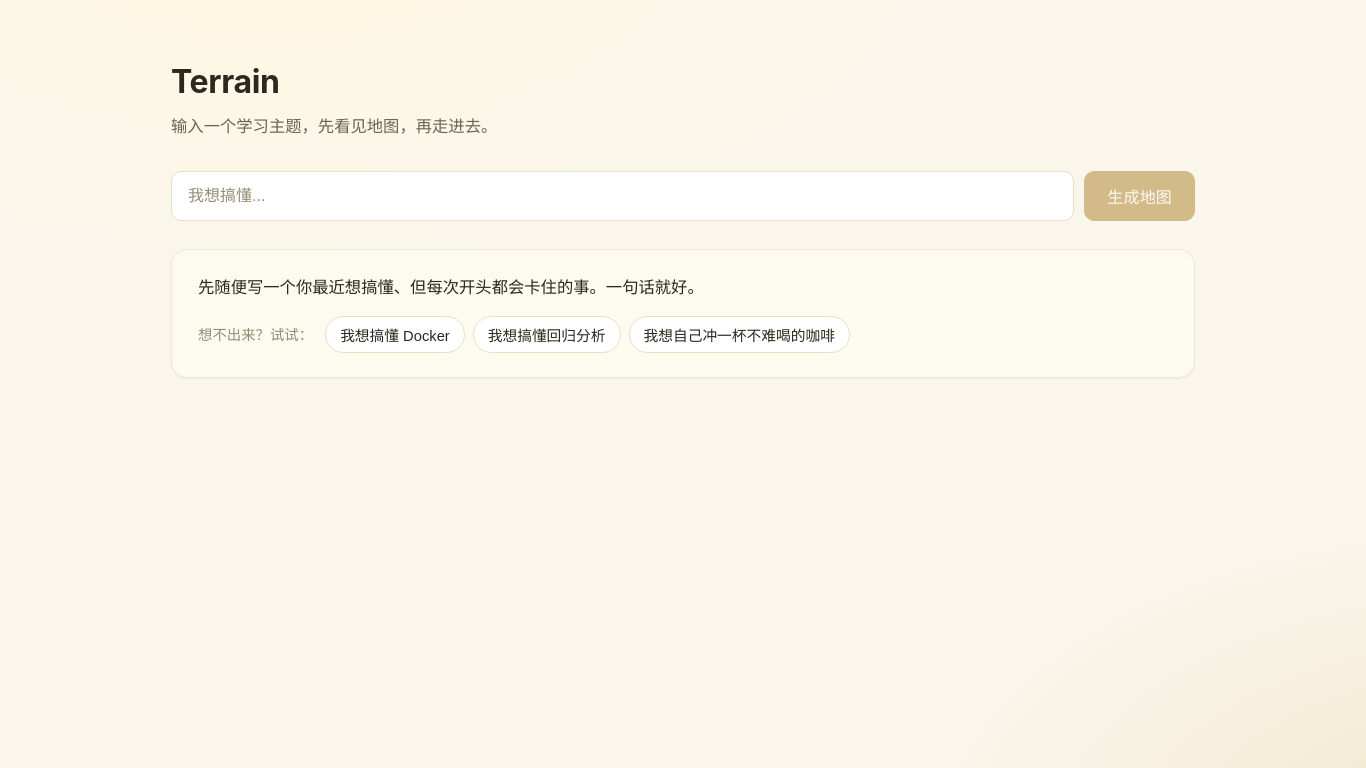
Scenario: App integration › shows error state and retry button when map fetch fails
The image size is (1366, 768).
Type "Docker" into the field named "学习主题" at [623, 196], box x1=171 y1=171 x2=1074 y2=221
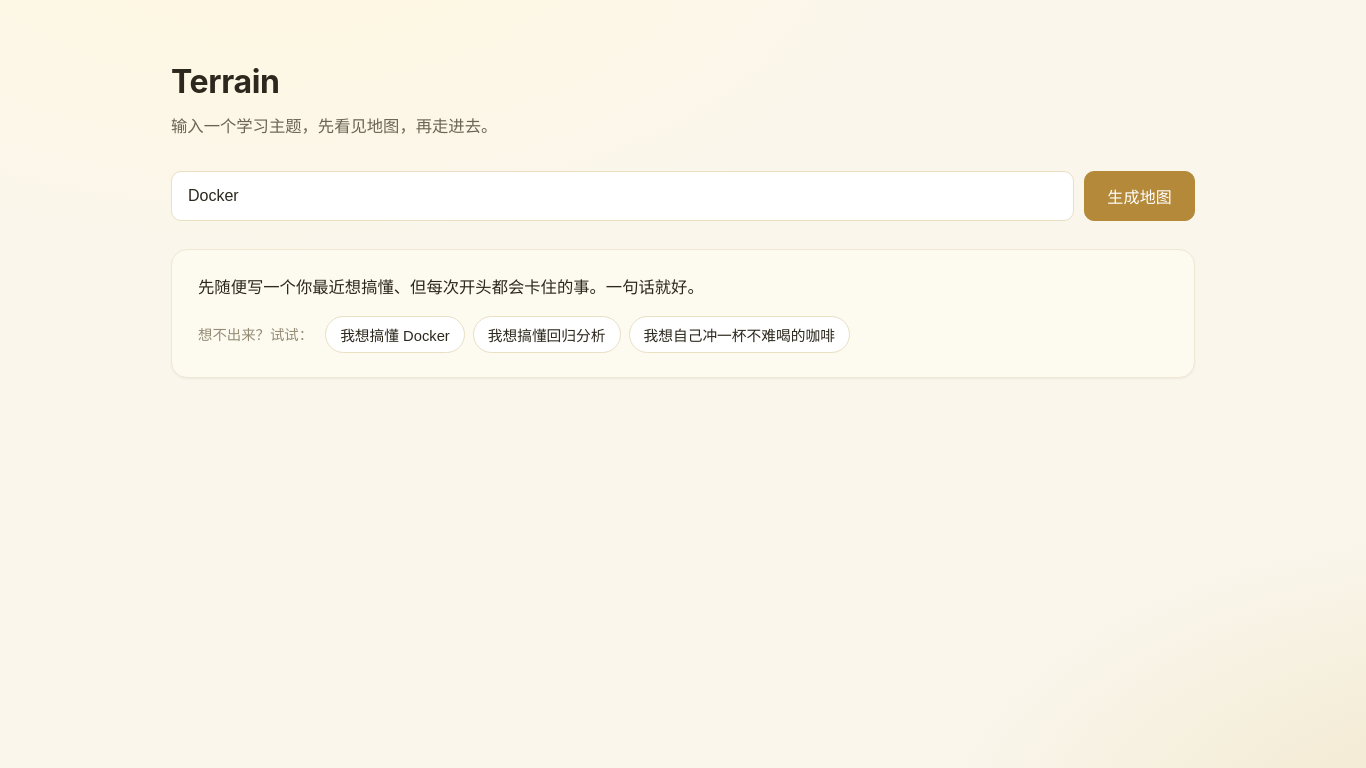
Click the button "生成地图" at [1140, 196], box x1=1084 y1=171 x2=1195 y2=221
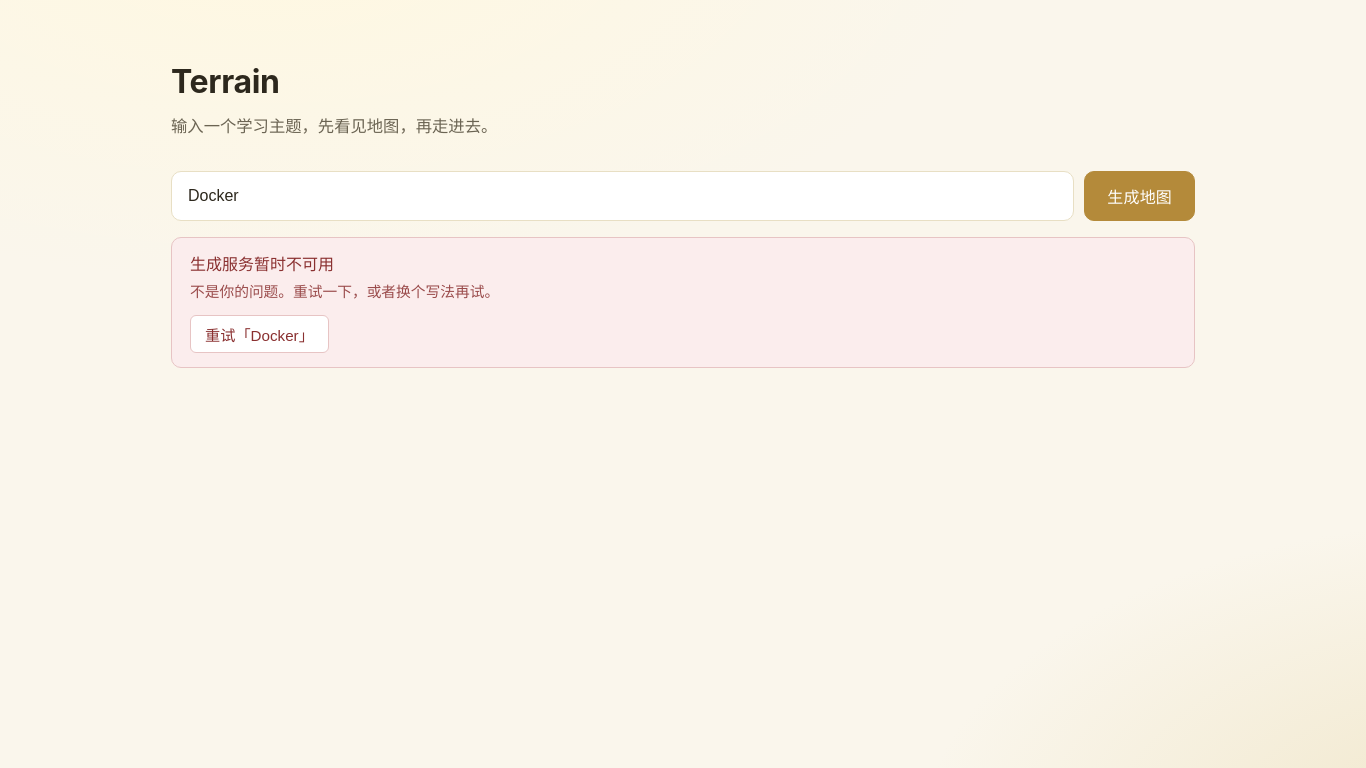
Expected: the text "生成服务暂时不可用" is shown, x1=190 y1=254 x2=334 y2=274
Expected: the button "重试「Docker」" is shown, x1=190 y1=315 x2=329 y2=353
